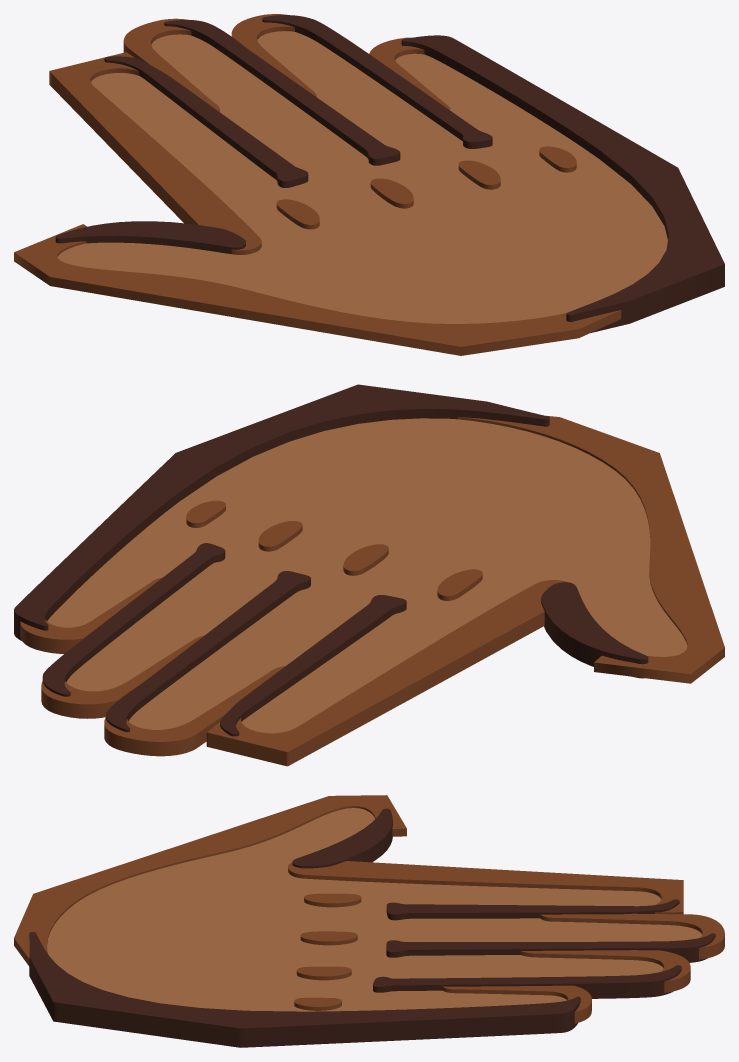
Rendered from emoji_u1f91a_1f3fe.glb.
The picture shows the model from 3 angles, top to bottom: view 1: azimuth 30°, elevation 25°; view 2: azimuth 150°, elevation 25°; view 3: azimuth 270°, elevation 25°; orthographic projection. The views are drawn at different scales.
Parts seen in each view (by area): view 1: emoji_u1f91a_1f3fe; view 2: emoji_u1f91a_1f3fe; view 3: emoji_u1f91a_1f3fe.
Part boxes in pixels (x1,y1,x2,y2): emoji_u1f91a_1f3fe: (14,14,724,355); emoji_u1f91a_1f3fe: (14,384,724,766); emoji_u1f91a_1f3fe: (14,795,724,1047).
Size of the model in its own units: 0.0266 by 0.001 by 0.0334.
